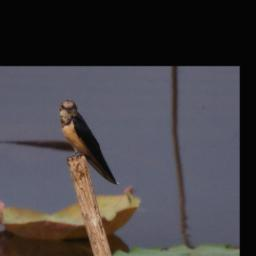Swallow: (58, 99, 118, 188)
